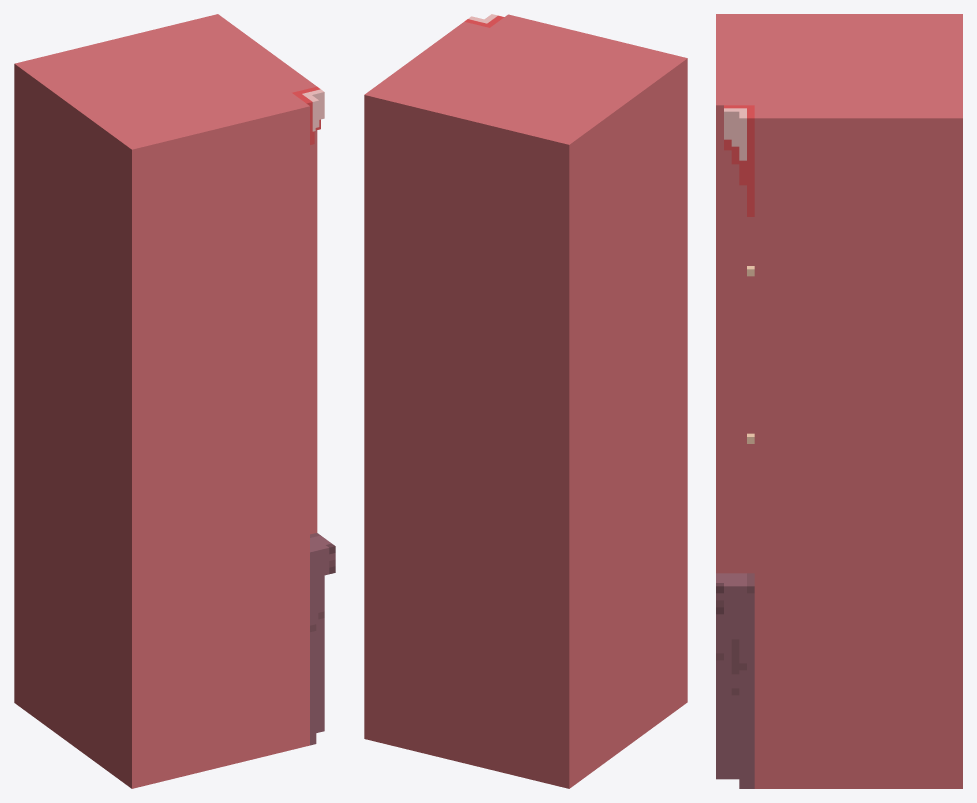
Rendered from Esquina.obj.
3 renders of one model, left to right at view 1: azimuth 30°, elevation 25°; view 2: azimuth 150°, elevation 25°; view 3: azimuth 270°, elevation 25°, orthographic. The views are drawn at different scales.
Bounding box in the file's own units: 3.2 × 9.6 × 3.2.
Materials: 1 (1 with a texture image).
